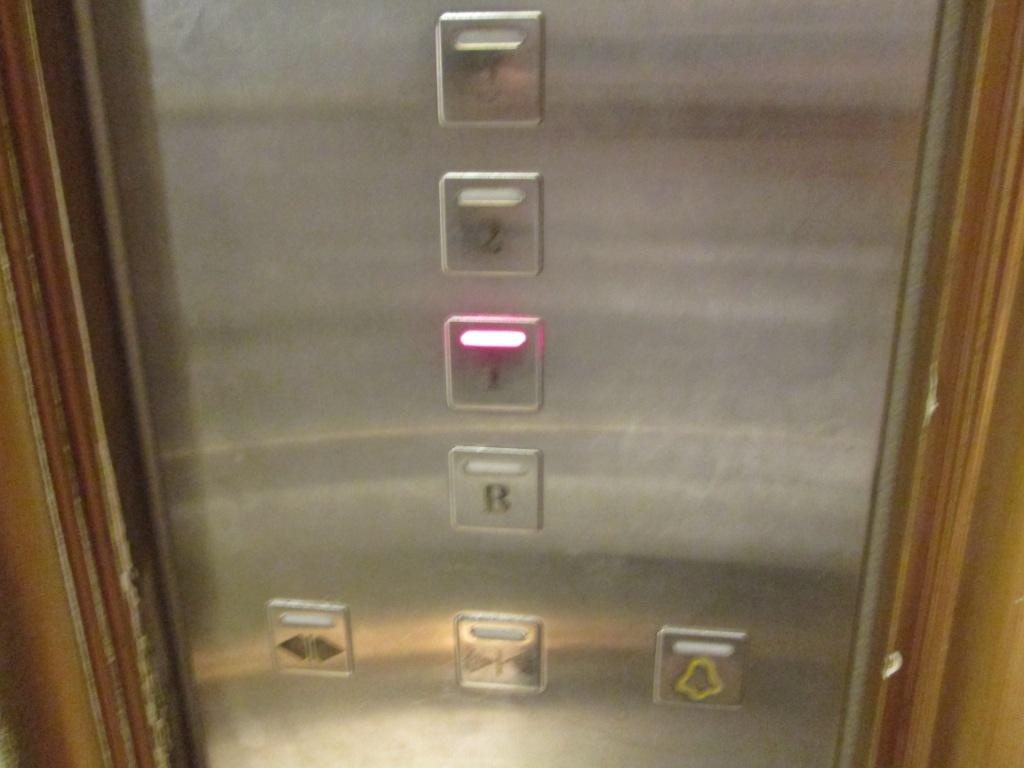1: (439, 310, 551, 418)
2: (433, 165, 549, 281)
B: (448, 441, 548, 536)
alarm: (649, 621, 750, 715)
blur: (432, 7, 549, 133)
close: (453, 611, 547, 701)
open: (264, 596, 360, 685)
